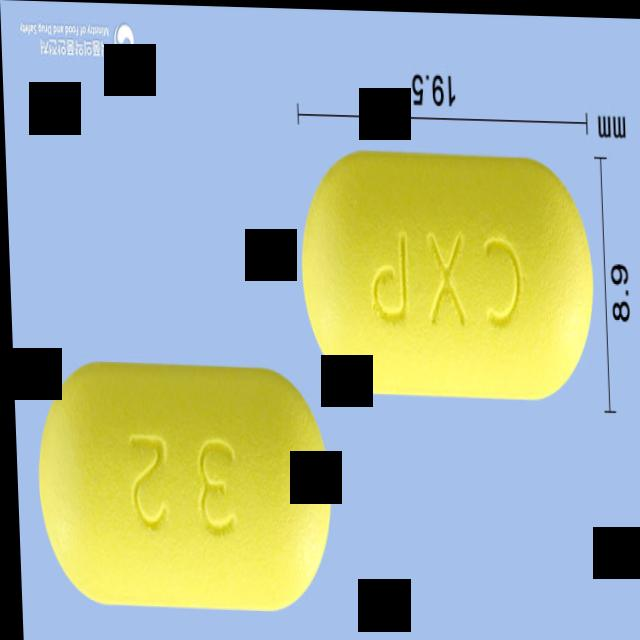Clatwo: (290, 136, 598, 409), (28, 360, 330, 615)
